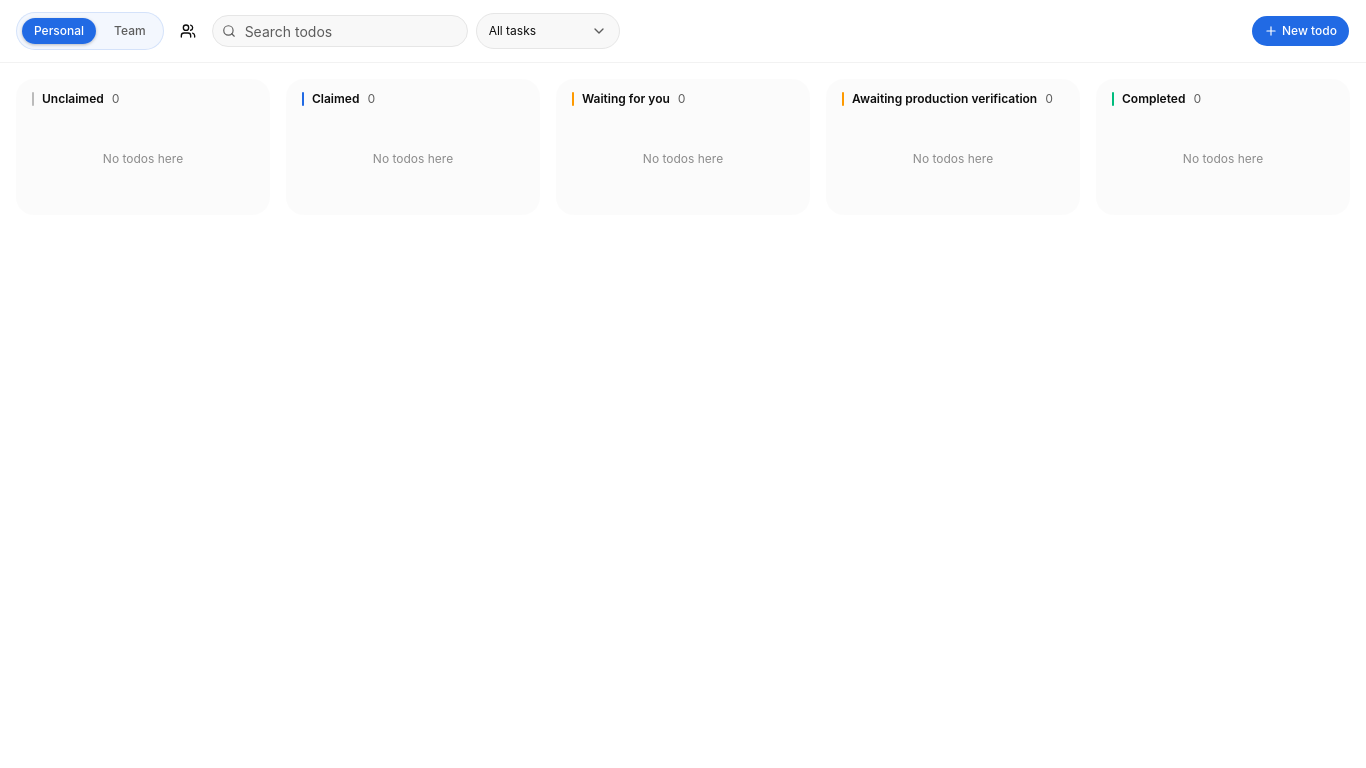
Test: independent todo board › saves content without a title and lets the service generate it
Click the button "New todo" at (1300, 31), box [1251, 15, 1350, 47]
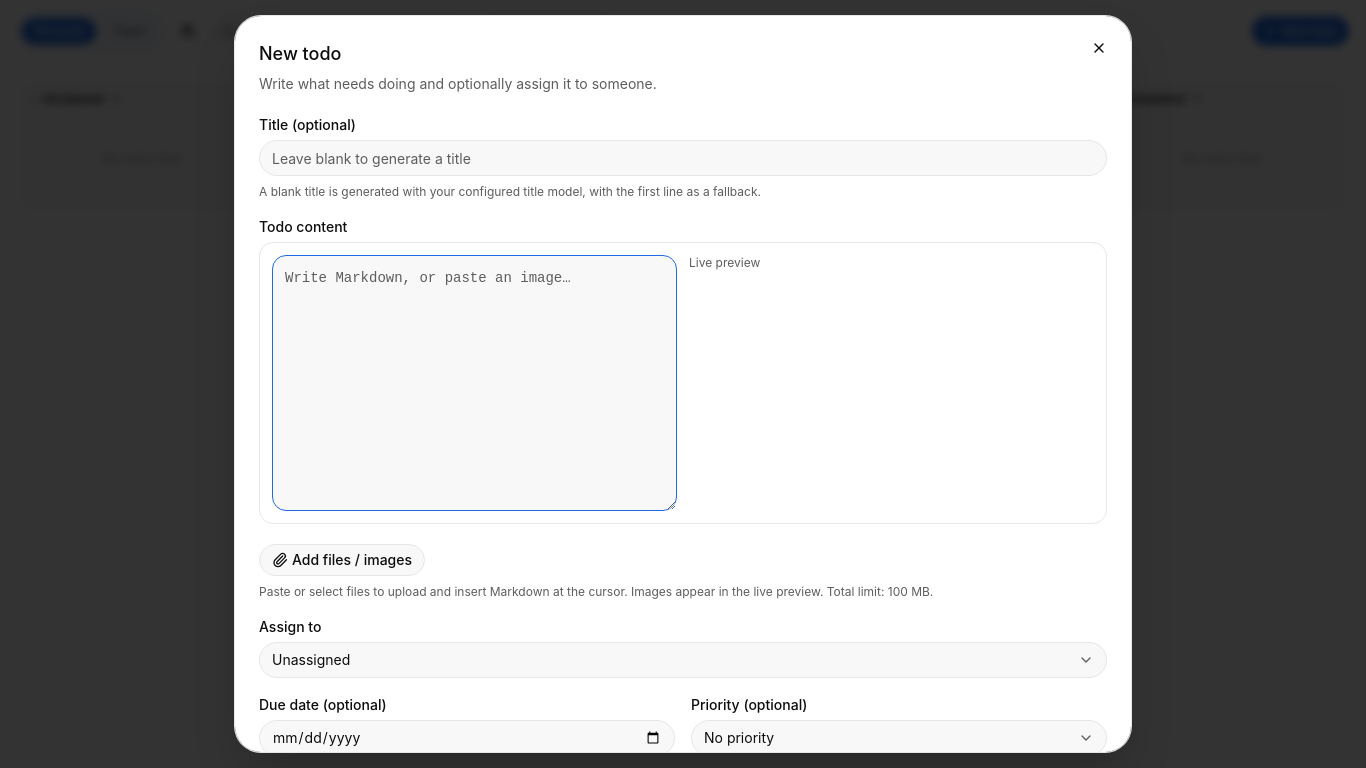
Type "Review the release notes" into the text box labelled "Todo content" at (474, 383), box [272, 255, 677, 511]
(page scrolled)
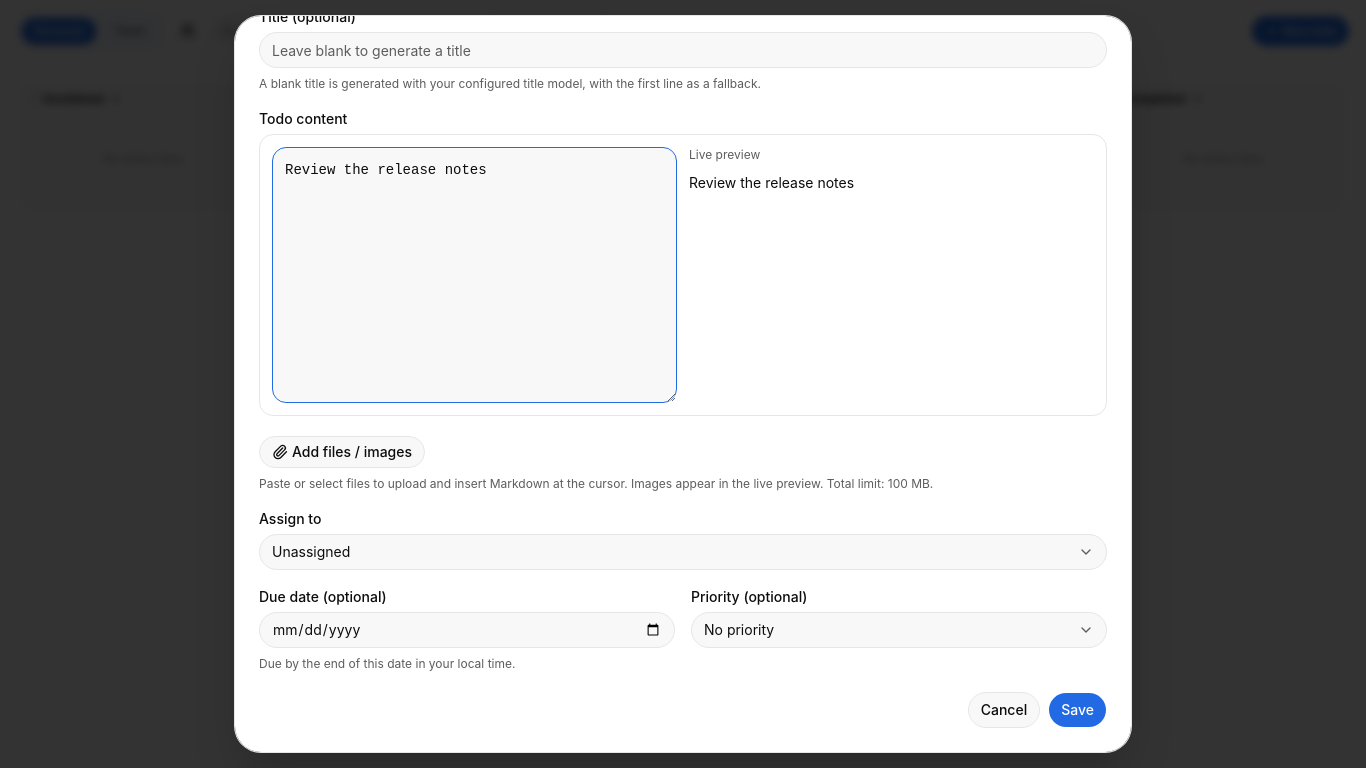
Click the button "Save" at (1078, 710), box [1048, 692, 1107, 728]
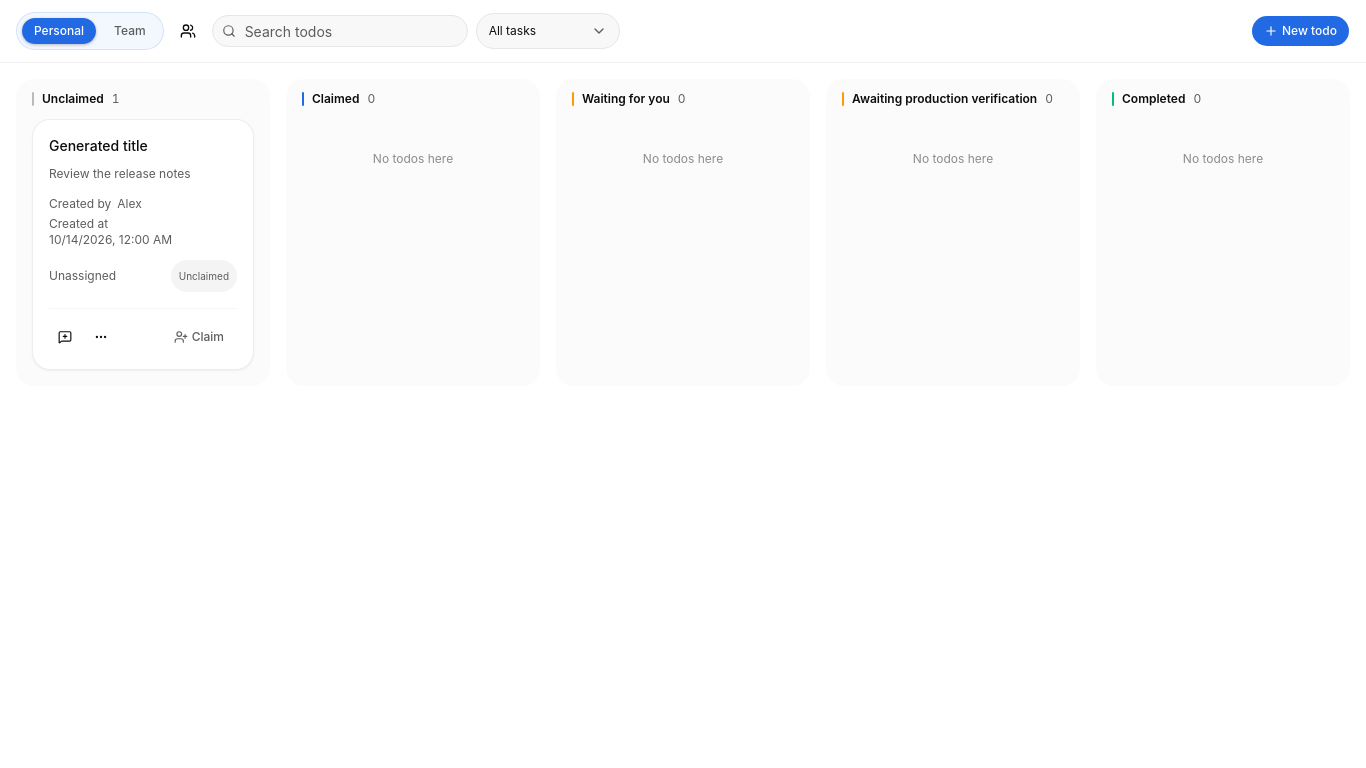
expect the heading "Generated title" is shown: met, box [49, 137, 148, 154]
